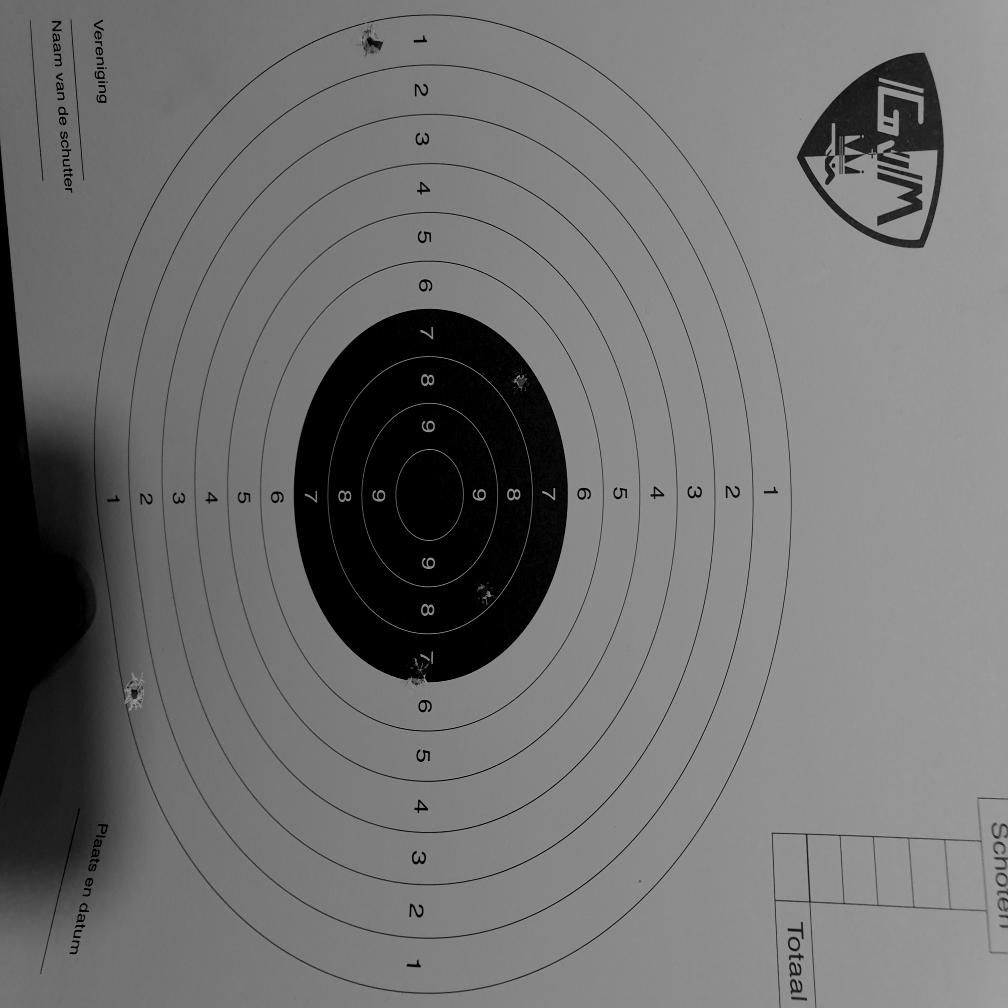1: (356, 19, 386, 62), (125, 670, 146, 712)
7: (403, 656, 435, 688), (510, 370, 531, 394)
8: (476, 582, 496, 612)
Target: (98, 13, 792, 998)
black_contour: (295, 309, 567, 684)
